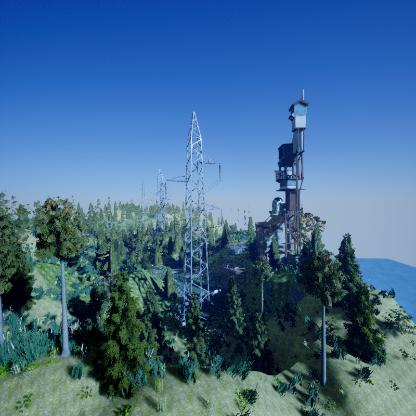tower: (162, 111, 225, 329)
